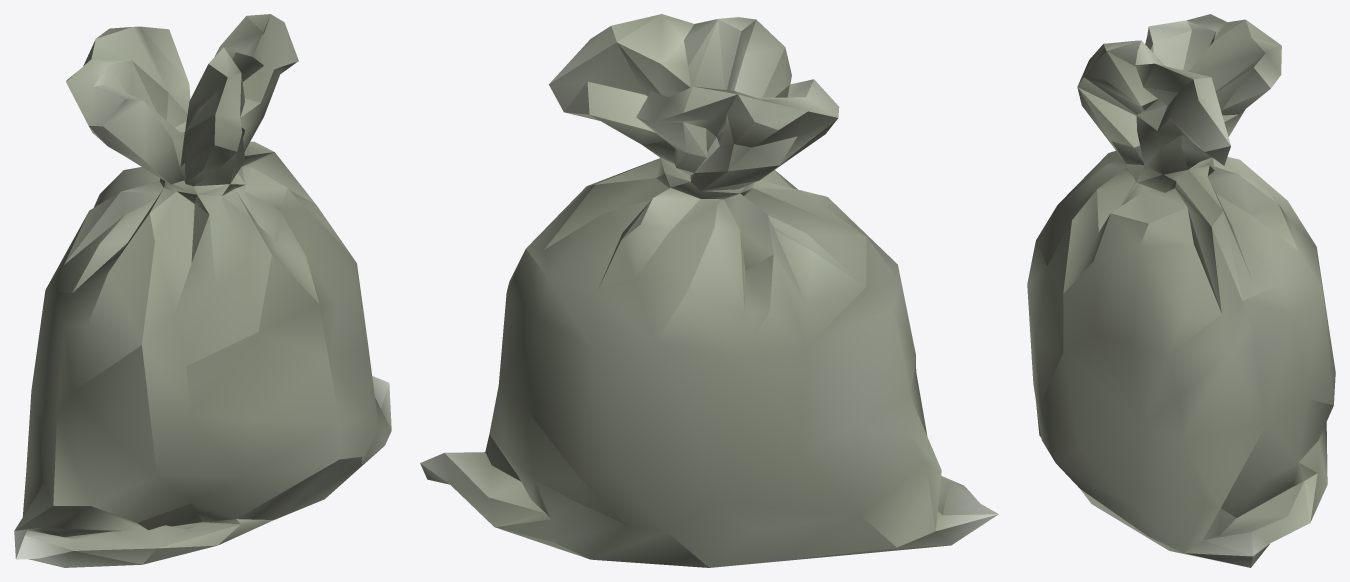
File: Sack01.fbx
The picture shows the model from 3 angles, left to right: view 1: azimuth 30°, elevation 25°; view 2: azimuth 150°, elevation 25°; view 3: azimuth 270°, elevation 25°; orthographic projection. The views are drawn at different scales.
Visible parts, largest first — view 1: Sack1; view 2: Sack1; view 3: Sack1.
Boxes of the visible parts, box(x1,y1,x2,y2) form: Sack1: box(14, 14, 391, 567); Sack1: box(420, 14, 998, 567); Sack1: box(1027, 14, 1335, 567).
Size of the model in its own units: 82.61 by 78.11 by 50.31.
